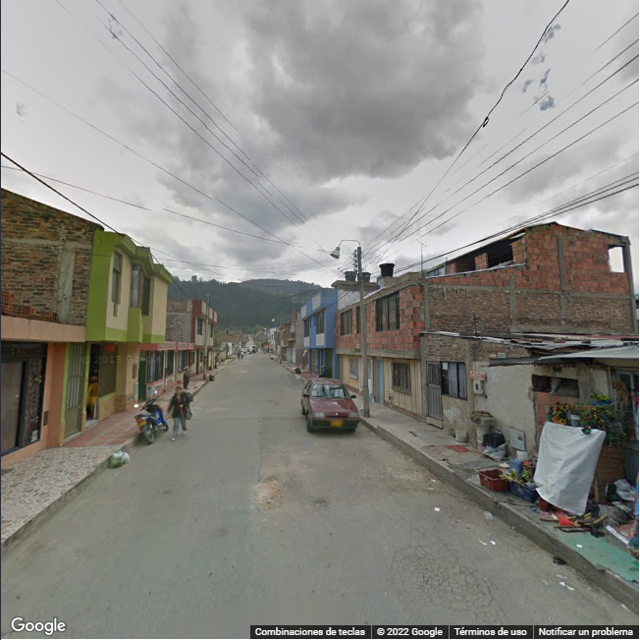D20: (390, 527, 513, 622)
D40: (251, 475, 286, 515)
